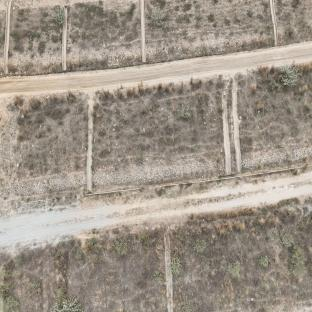rock_toe: (93, 154, 225, 186), (147, 31, 274, 61), (6, 170, 86, 200), (240, 143, 312, 169), (68, 48, 142, 68), (9, 55, 62, 72)
slope_drain: (164, 231, 174, 312), (222, 86, 231, 175), (232, 82, 241, 168), (86, 98, 94, 192), (3, 1, 12, 74), (270, 0, 280, 45), (140, 0, 147, 63), (62, 6, 68, 72)
toe_drain: (4, 158, 312, 209)
